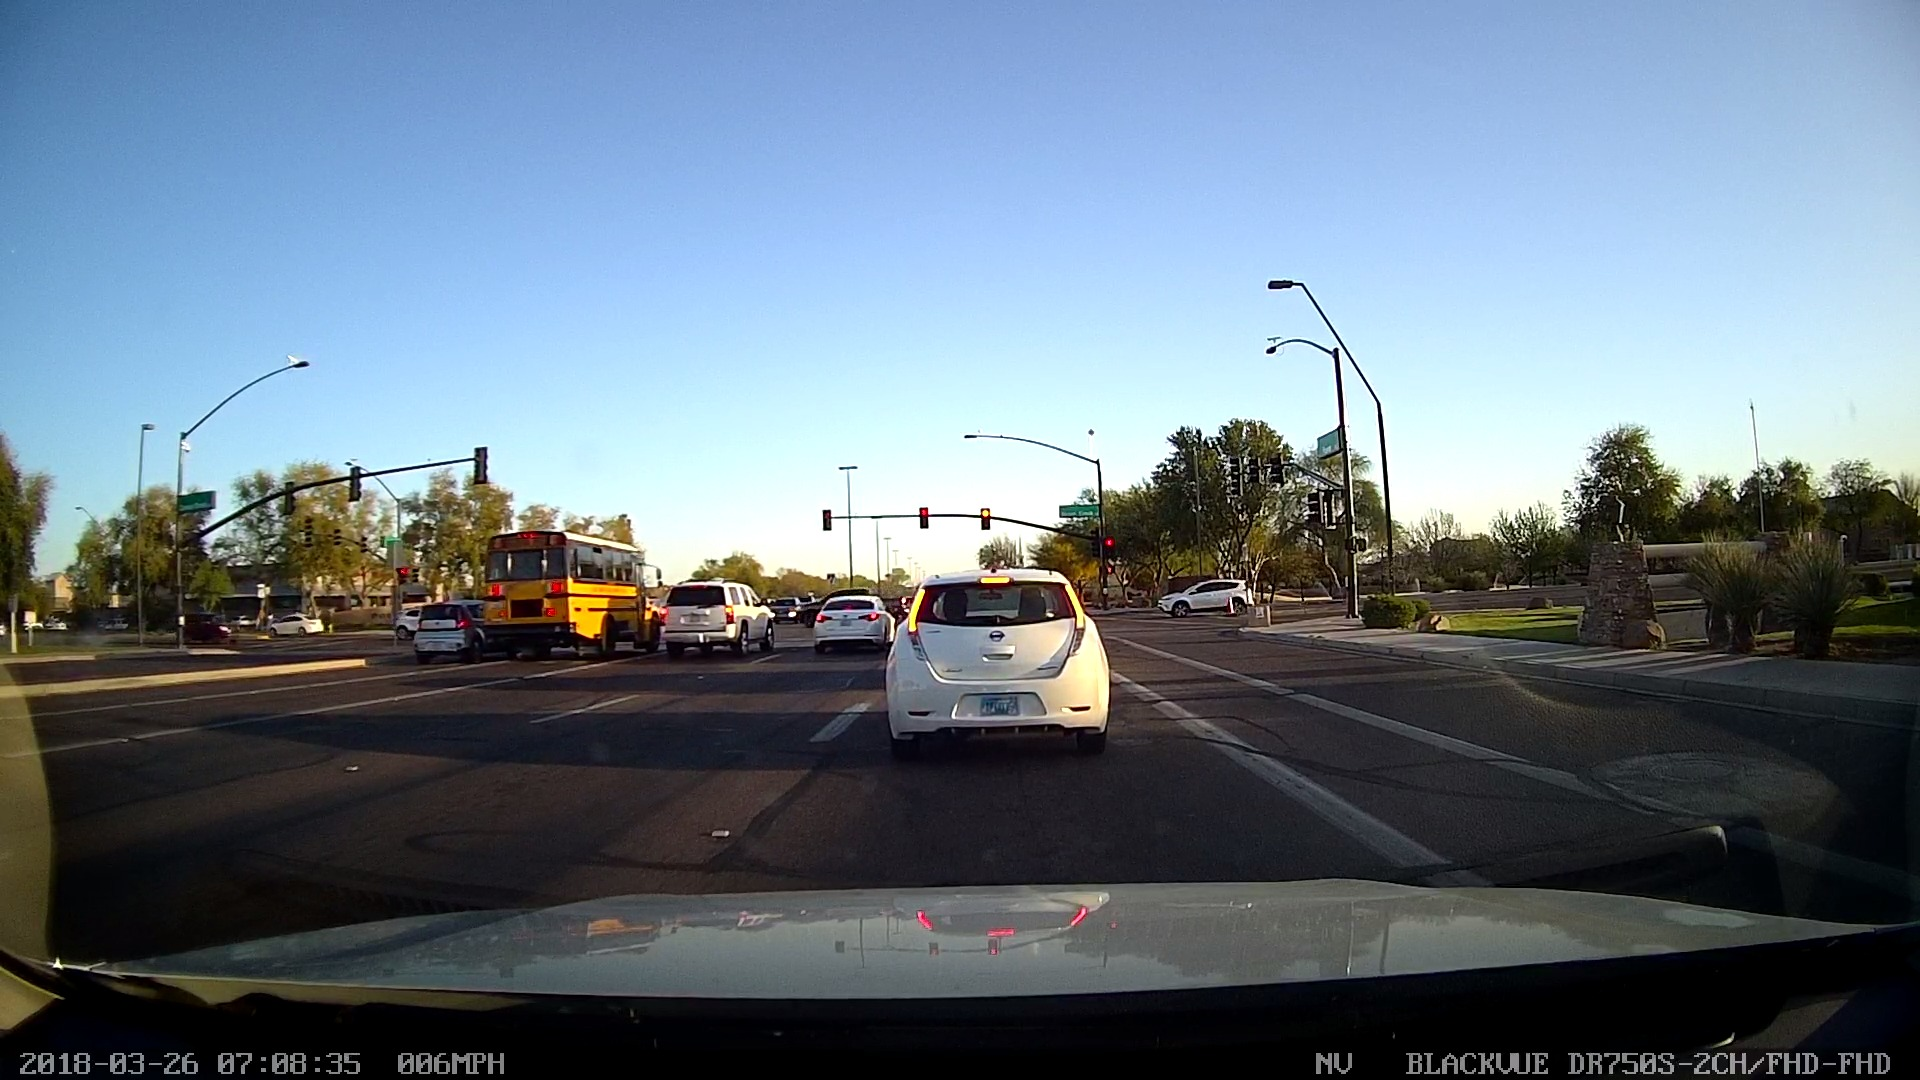vehicle: (876, 559, 1122, 758), (465, 520, 661, 671), (651, 575, 778, 661), (796, 582, 898, 661), (404, 595, 487, 669), (1150, 574, 1258, 622), (253, 607, 326, 642)
